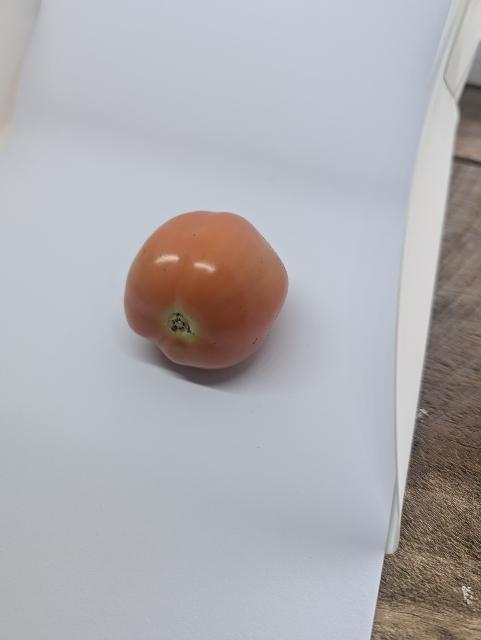turning: (121, 209, 295, 376)
